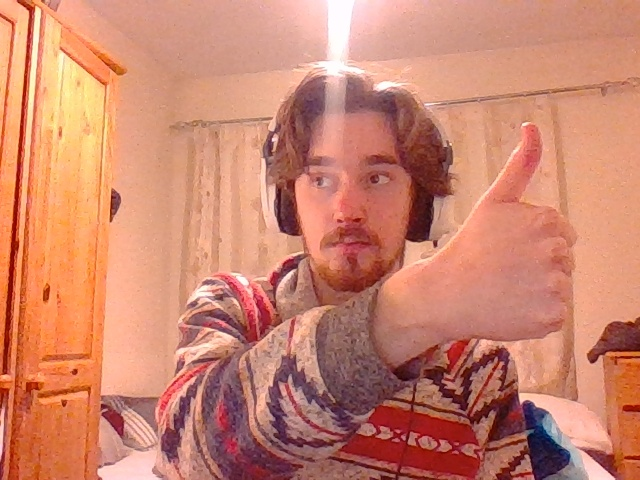good: (463, 123, 576, 342)
